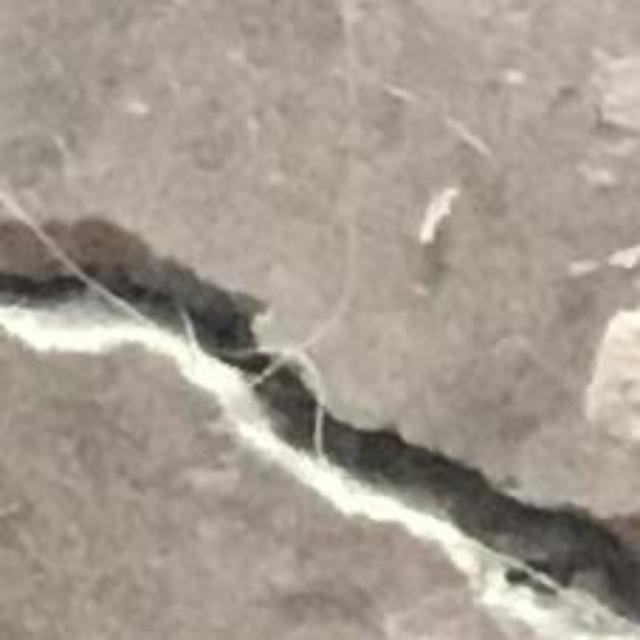crack: (0, 218, 639, 639)
